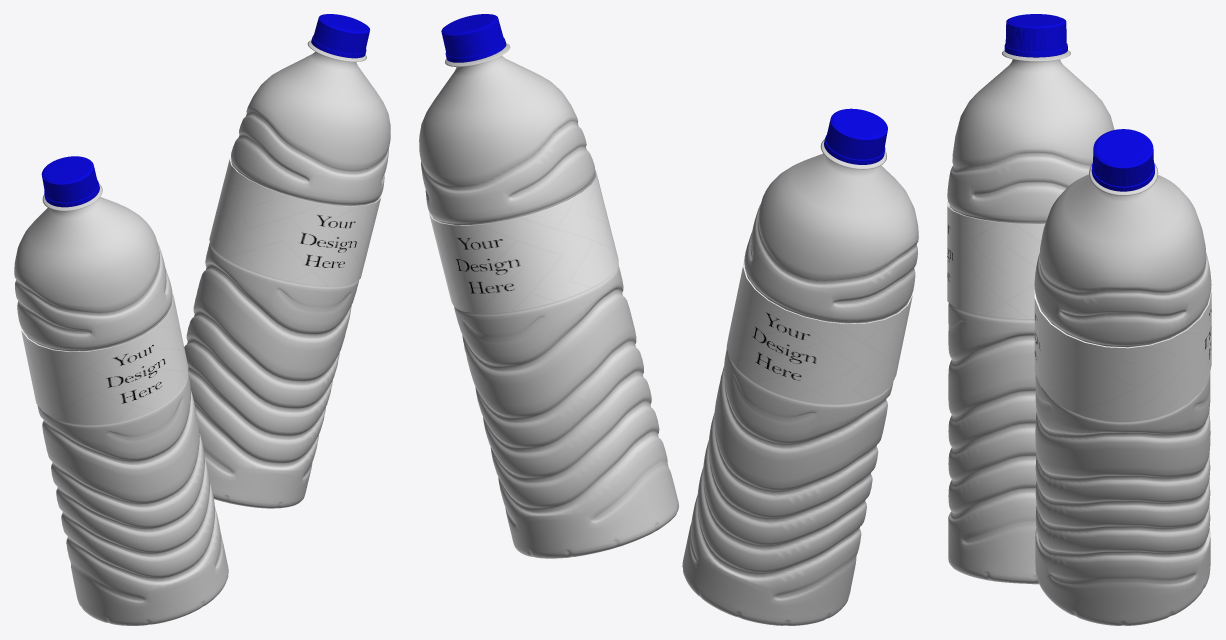
File: Plastic Bottle A-4.glb
The picture shows the model from 3 angles, left to right: view 1: azimuth 30°, elevation 25°; view 2: azimuth 150°, elevation 25°; view 3: azimuth 270°, elevation 25°; orthographic projection. The views are drawn at different scales.
Parts seen in each view (by area): view 1: Circle, Circle.002, Poster_Poster_0.001, Poster_Poster_0, Circle.012, Circle.001; view 2: Circle.002, Circle, Poster_Poster_0.001, Poster_Poster_0, Circle.012, Circle.001; view 3: Circle.002, Circle, Poster_Poster_0.001, Poster_Poster_0, Circle.001, Circle.012.
Boxes of the visible parts, <box> form: Circle: <box>14,184,228,625</box>; Circle.002: <box>184,40,390,508</box>; Poster_Poster_0.001: <box>209,157,381,286</box>; Poster_Poster_0: <box>20,293,188,424</box>; Circle.012: <box>41,156,99,207</box>; Circle.001: <box>311,14,369,58</box>; Circle.002: <box>419,43,678,558</box>; Circle: <box>682,139,918,625</box>; Poster_Poster_0.001: <box>429,170,618,313</box>; Poster_Poster_0: <box>726,260,912,404</box>; Circle.012: <box>824,108,887,164</box>; Circle.001: <box>441,14,506,62</box>; Circle.002: <box>1034,163,1211,625</box>; Circle: <box>947,50,1114,584</box>; Poster_Poster_0.001: <box>1034,289,1211,422</box>; Poster_Poster_0: <box>947,201,1045,318</box>; Circle.001: <box>1091,129,1154,191</box>; Circle.012: <box>1004,14,1067,57</box>.
Size of the model in its own units: 2.95 by 3.54 by 1.5.
Materials: 4 (1 with a texture image).
